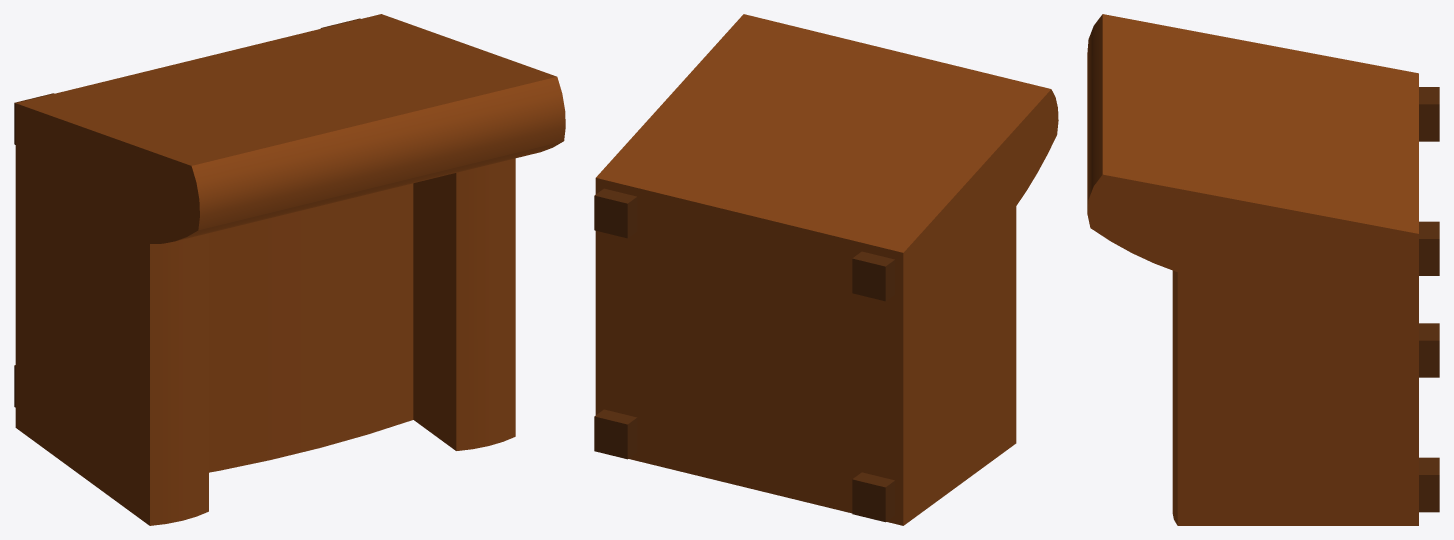
3 renders of one model, left to right at view 1: azimuth 30°, elevation 25°; view 2: azimuth 150°, elevation 25°; view 3: azimuth 270°, elevation 25°, orthographic. The views are drawn at different scales.
Visible parts, largest first — view 1: arm chair coupe leather; view 2: arm chair coupe leather; view 3: arm chair coupe leather.
Part boxes in pixels (<box>): arm chair coupe leather: <box>14,14,565,525</box>; arm chair coupe leather: <box>594,14,1058,525</box>; arm chair coupe leather: <box>1087,14,1439,525</box>.
Size of the model in its own units: 37 by 37.75 by 34.29.
